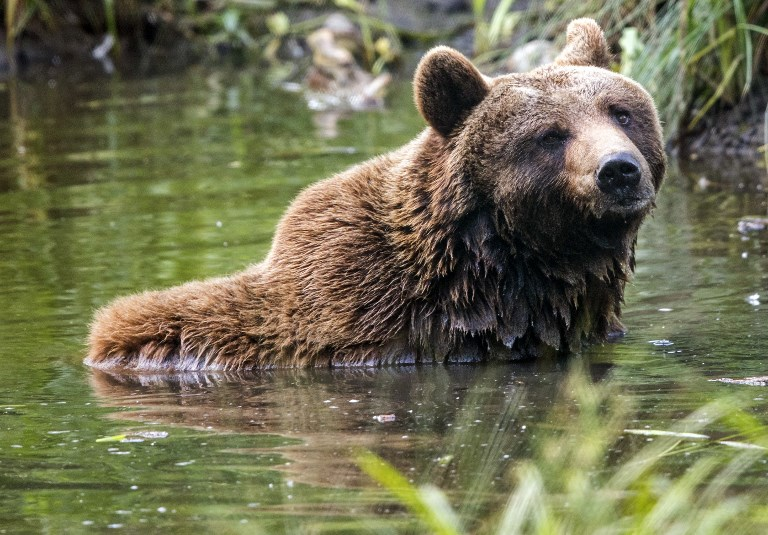bear: (407, 12, 672, 222)
